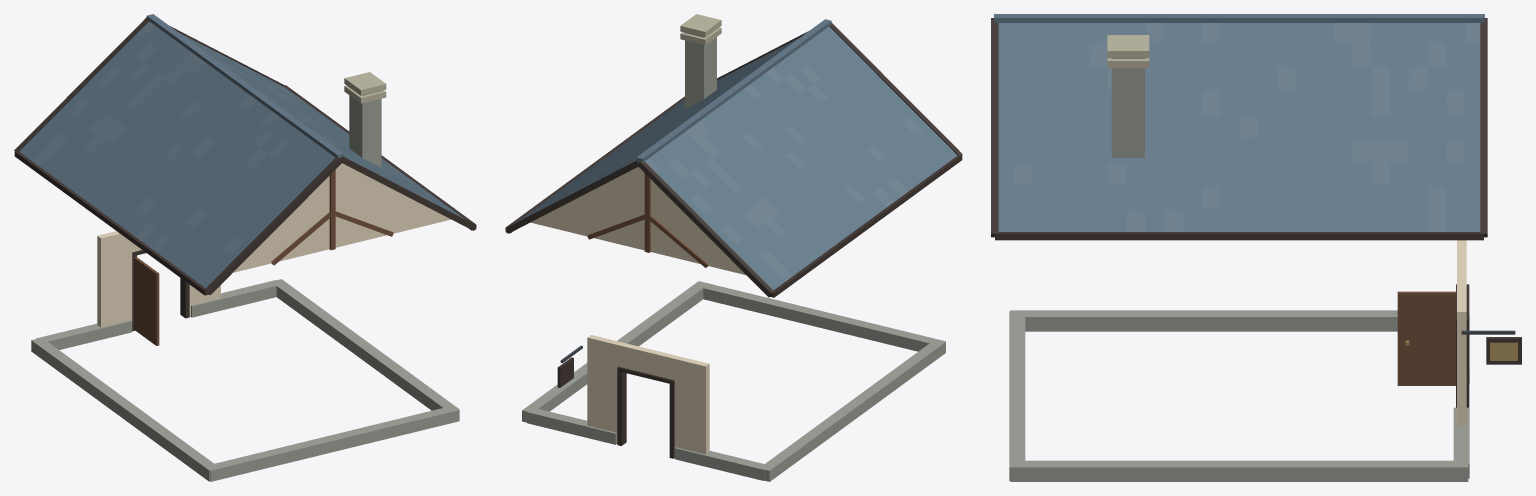
The model's file is SM_TownHouse_Details.glb.
3 renders of one model, left to right at view 1: azimuth 30°, elevation 25°; view 2: azimuth 150°, elevation 25°; view 3: azimuth 270°, elevation 25°, orthographic. The views are drawn at different scales.
Parts seen in each view (by area): view 1: SM_TownHouse_Details; view 2: SM_TownHouse_Details; view 3: SM_TownHouse_Details.
Boxes of the visible parts, left/top/right/bottom form: SM_TownHouse_Details: left=14, top=14, right=476, bottom=481; SM_TownHouse_Details: left=505, top=14, right=962, bottom=481; SM_TownHouse_Details: left=991, top=14, right=1521, bottom=481.
Bounding box in the file's own units: 9.06 × 10.14 × 11.94.
